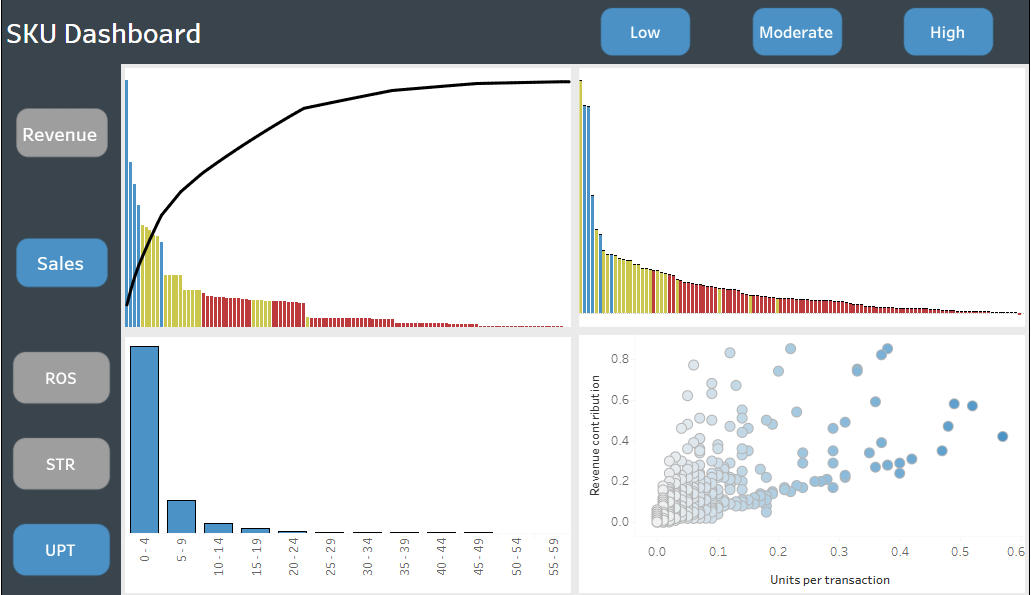

This screenshot's page, from the dashboard's own definition file:
{"tool":"tableau","page":{"name":"SKU Dashboard","canvas":[1000,1000],"units":"permille","ordinal":0},"visuals":[{"type":"text","box":[8.8,14,297,100.9]},{"type":"blank","box":[305.8,14,242.3,100.9]},{"type":"worksheet","title":"Cluster Buttons","mark":"Shape","cols":["Calculation_1872090137624014869","Calculation_1872090137624023063","Calculation_1872090137624035353"],"box":[548.1,14,443.1,100.9]},{"type":"worksheet","title":"Pareto Buttons","mark":"Shape","rows":["Calculation_1622984783511957513","Calculation_1622984783511965707"],"box":[8.8,114.9,116.2,436.3]},{"type":"worksheet","title":"Pareto","mark":"Automatic","rows":["Calculation_1477743692388941826","Calculation_1477743692390580228"],"cols":["SKU (sample.csv)"],"box":[125,114.9,433.6,436.3]},{"type":"worksheet","title":"Revenue Breakdown","mark":"Automatic","cols":["SKU (sample.csv)"],"box":[558.6,114.9,432.6,436.3]},{"type":"worksheet","title":"KPI Buttons","mark":"Shape","rows":["Calculation_1622984783513952271","Calculation_1622984783513956369","Calculation_1622984783513964563"],"box":[8.8,551.2,116.2,434.8]},{"type":"worksheet","title":"ROS Distribution","mark":"Automatic","rows":["Rate_of_sale"],"cols":["Calculation_796574250184093701"],"box":[125,551.2,433.6,1.6]},{"type":"worksheet","title":"Clusters","mark":"Circle","rows":["Revenue_contribution"],"cols":["Units_per_transaction"],"box":[558.6,551.2,432.6,434.8]},{"type":"worksheet","title":"STR Distribution","mark":"Automatic","rows":["Sell_through_rate"],"cols":["Calculation_796574250186014726"],"box":[125,552.8,433.6,1.6]},{"type":"worksheet","title":"UPT Distribution","mark":"Automatic","rows":["Calculation_796574250190483464"],"cols":["Calculation_796574250190696457"],"box":[125,554.3,433.6,431.7]}]}

Visuals, with their boxes on the dashboard's canvas, which has no fixed pixel size, in thousandths of its width and height (x1, y1, x2, y2). These are canvas units, not pixel positions in the 1031x595 screenshot, which may show the page scaled, cropped or inside an application window:
text: pyautogui.locateOnScreen(9, 14, 306, 115)
blank: pyautogui.locateOnScreen(306, 14, 548, 115)
"Cluster Buttons" worksheet (Shape marks): pyautogui.locateOnScreen(548, 14, 991, 115)
"Pareto Buttons" worksheet (Shape marks): pyautogui.locateOnScreen(9, 115, 125, 551)
"Pareto" worksheet: pyautogui.locateOnScreen(125, 115, 559, 551)
"Revenue Breakdown" worksheet: pyautogui.locateOnScreen(559, 115, 991, 551)
"KPI Buttons" worksheet (Shape marks): pyautogui.locateOnScreen(9, 551, 125, 986)
"ROS Distribution" worksheet: pyautogui.locateOnScreen(125, 551, 559, 553)
"Clusters" worksheet (Circle marks): pyautogui.locateOnScreen(559, 551, 991, 986)
"STR Distribution" worksheet: pyautogui.locateOnScreen(125, 553, 559, 554)
"UPT Distribution" worksheet: pyautogui.locateOnScreen(125, 554, 559, 986)
